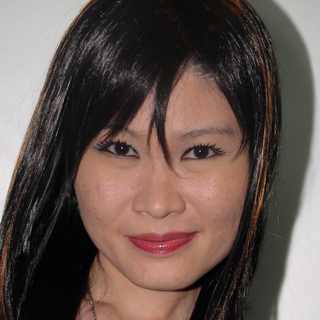eye: (82, 132, 149, 167), (172, 134, 232, 169)
